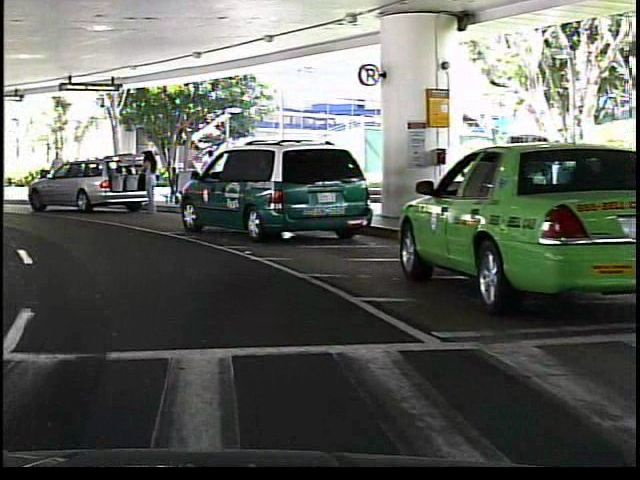person: (138, 146, 157, 221), (42, 148, 67, 200), (156, 154, 178, 212)
